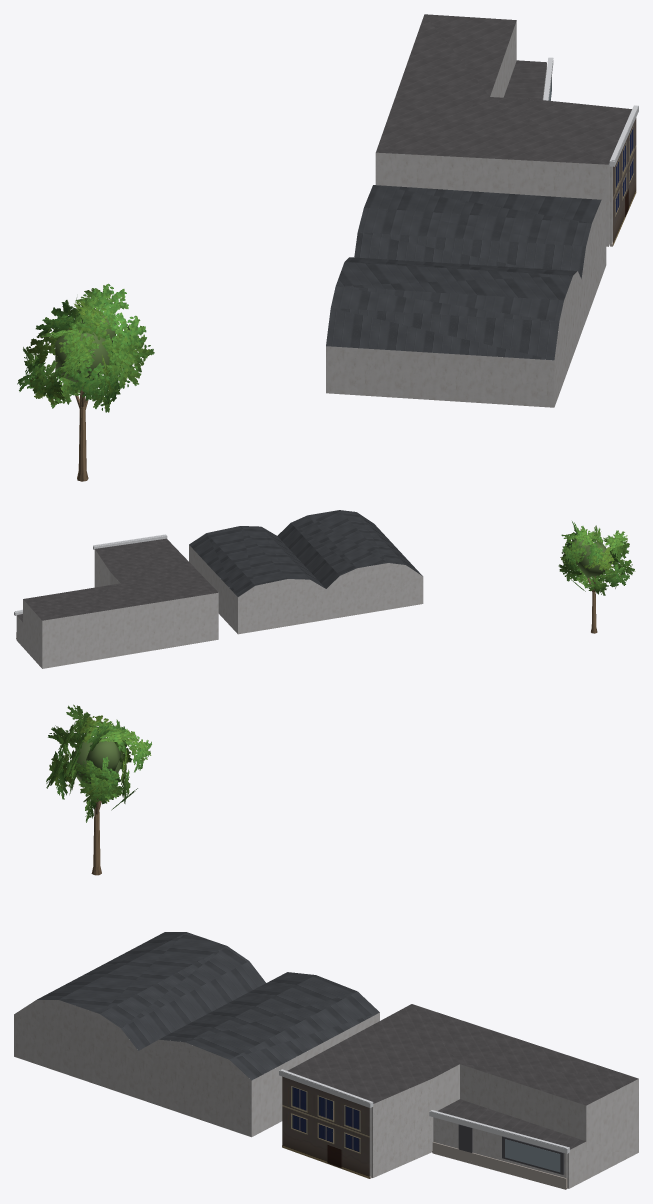
3 views of the same model, one above another, from view 1: azimuth 30°, elevation 25°; view 2: azimuth 150°, elevation 25°; view 3: azimuth 270°, elevation 25° (orthographic). The views are drawn at different scales.
Visible parts, largest first — view 1: bldg_6003918981_roof, bldg_6000001036_roof, bldg_6003918981, tree_4117, bldg_6000001036, bldg_6000001036_facade1; view 2: bldg_6003918981_roof, bldg_6000001036, bldg_6003918981, bldg_6000001036_roof, tree_4117, bldg_6000001036_facade1; view 3: bldg_6003918981_roof, bldg_6000001036_roof, bldg_6003918981, bldg_6000001036, bldg_6000001036_facade1, tree_4117, bldg_6000001036_facade0.
Boxes of the visible parts, x1,y1,x2,y2 form: bldg_6003918981_roof: (326, 185, 601, 360); bldg_6000001036_roof: (376, 14, 631, 164); bldg_6003918981: (326, 200, 606, 407); tree_4117: (17, 283, 154, 481); bldg_6000001036: (375, 21, 609, 246); bldg_6000001036_facade1: (609, 105, 638, 246); bldg_6003918981_roof: (189, 510, 422, 596); bldg_6000001036: (16, 549, 218, 668); bldg_6003918981: (189, 545, 423, 634); bldg_6000001036_roof: (17, 538, 217, 621); tree_4117: (558, 521, 635, 633); bldg_6000001036_facade1: (93, 534, 167, 549); bldg_6003918981_roof: (37, 932, 379, 1080); bldg_6000001036_roof: (287, 1004, 638, 1149); bldg_6003918981: (14, 1000, 379, 1137); bldg_6000001036: (371, 1064, 638, 1188); bldg_6000001036_facade1: (279, 1069, 373, 1178); tree_4117: (46, 704, 151, 875); bldg_6000001036_facade0: (429, 1110, 569, 1189).
Bounding box in the file's own units: 60.55 × 14.16 × 45.71.
Materials: 9 (5 with a texture image).
